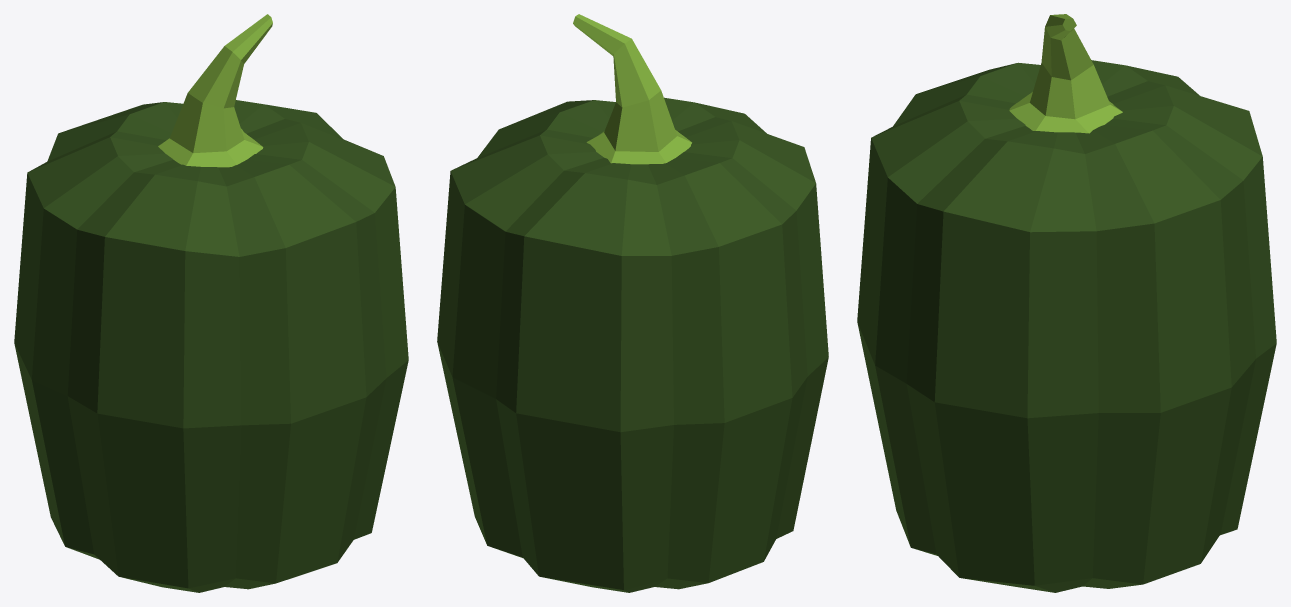
The model's file is Bell_Pepper_Green.fbx.
3 renders of one model, left to right at view 1: azimuth 30°, elevation 25°; view 2: azimuth 150°, elevation 25°; view 3: azimuth 270°, elevation 25°, orthographic. The views are drawn at different scales.
Parts seen in each view (by area): view 1: Bell_Pepper; view 2: Bell_Pepper; view 3: Bell_Pepper.
Boxes of the visible parts, bbox=[...] form: Bell_Pepper: bbox=[14, 14, 408, 592]; Bell_Pepper: bbox=[437, 14, 828, 592]; Bell_Pepper: bbox=[857, 14, 1276, 592].
Size of the model in its own units: 12.18 by 18.35 by 12.3.
